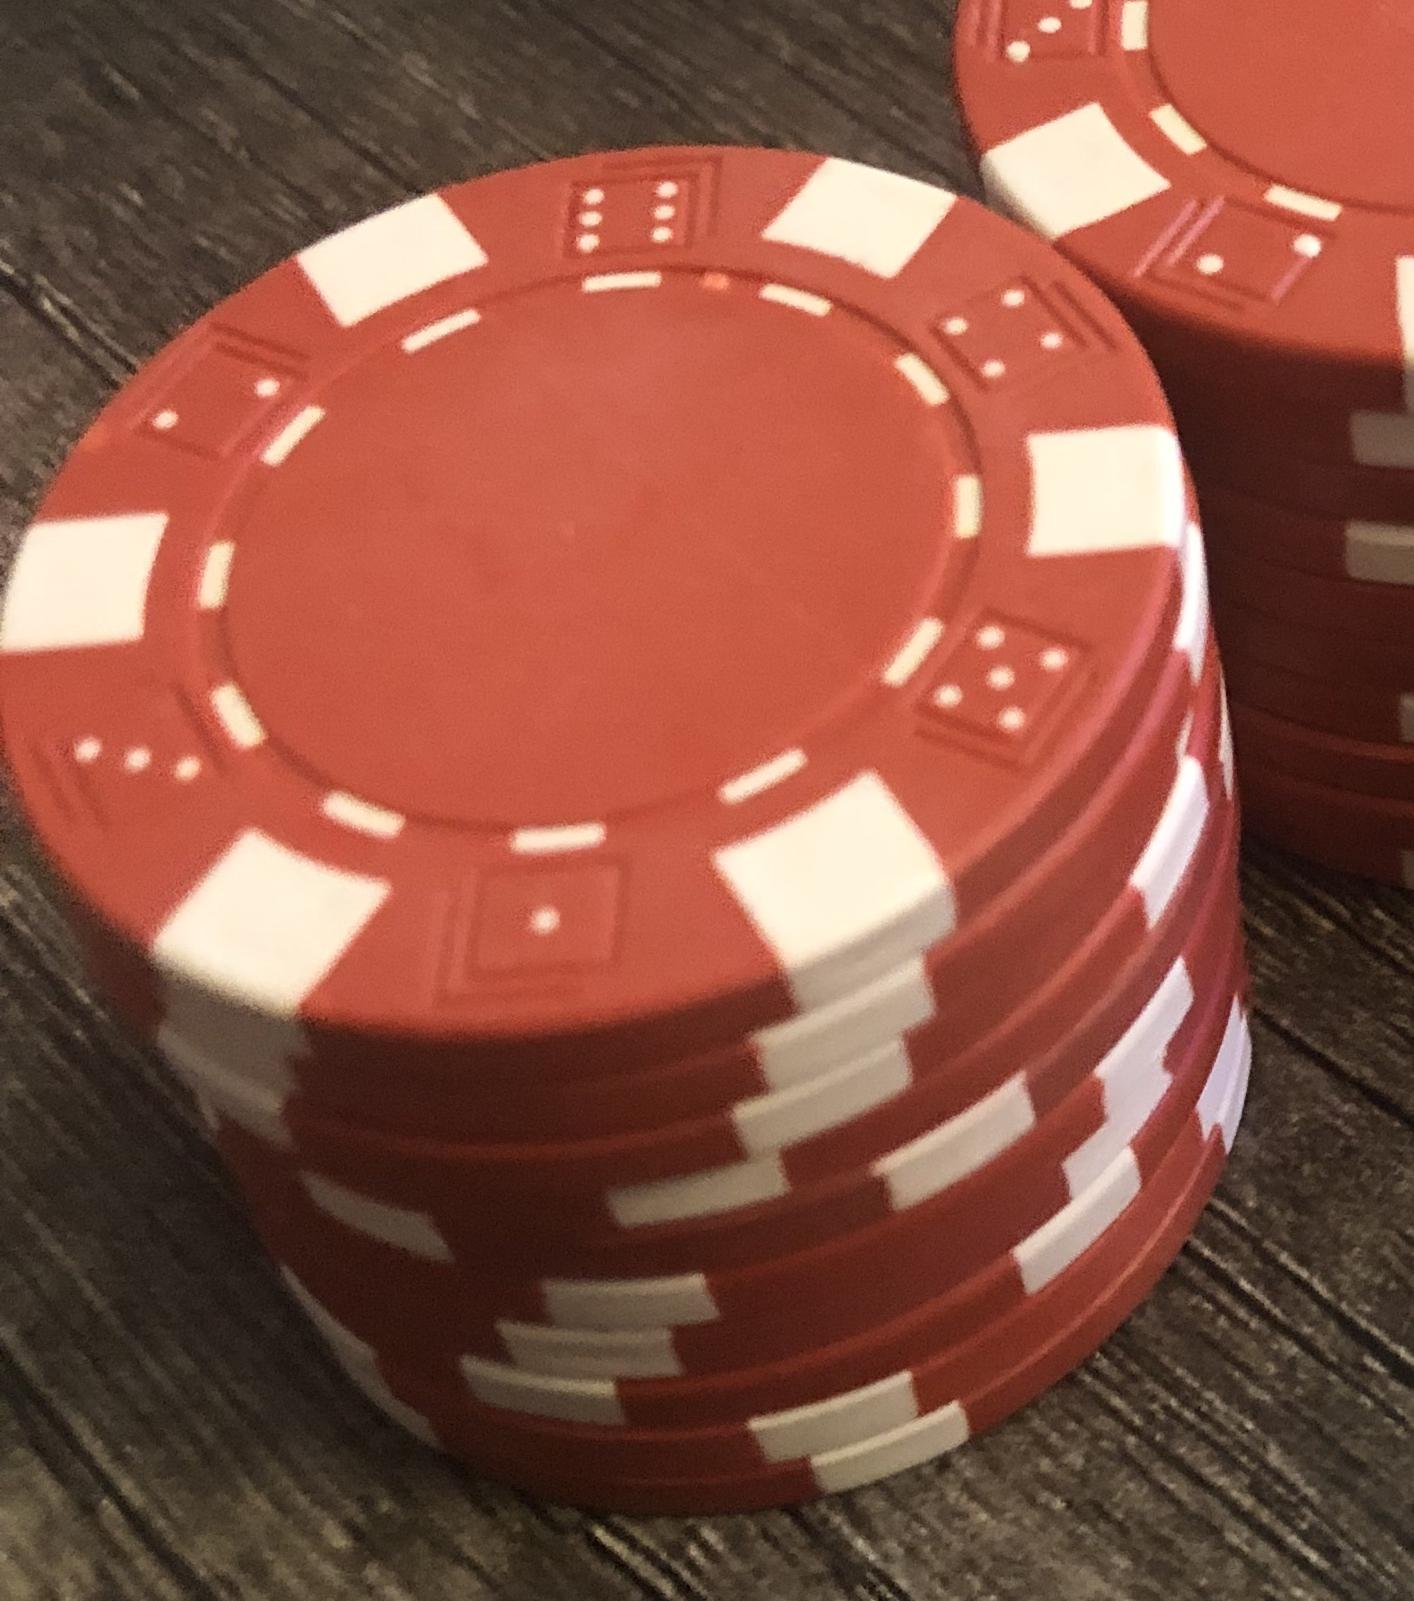Chip: (1, 1, 1414, 1601)
